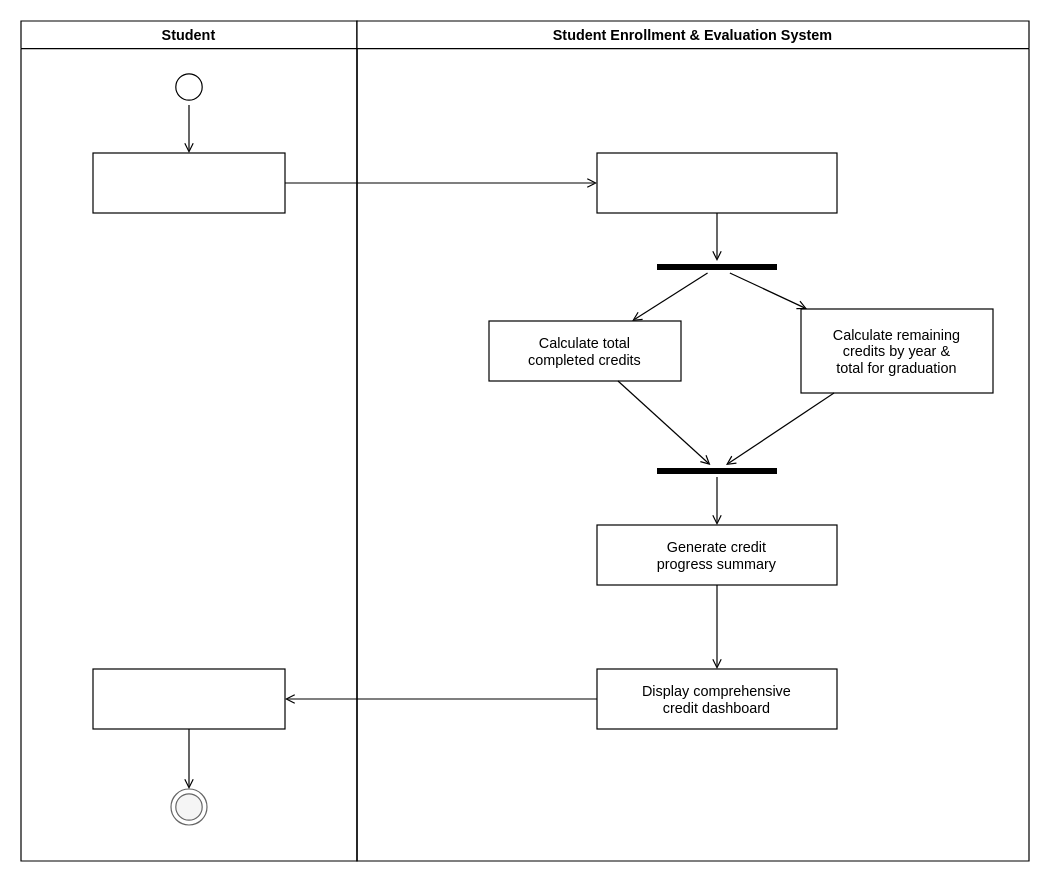
Image size: 1050x882. Some labels were removed from this diagram. The shapes that lost their labels are listed below. From the top down, each one's centre as x and y in pixels, then its label:
At (188,182): "Access credit progress dashboard".
At (716,182): "Load student academic record & pathway info".
At (188,698): "Review progress visualization & timeline".
